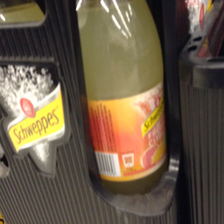soda: (76, 1, 169, 196)
